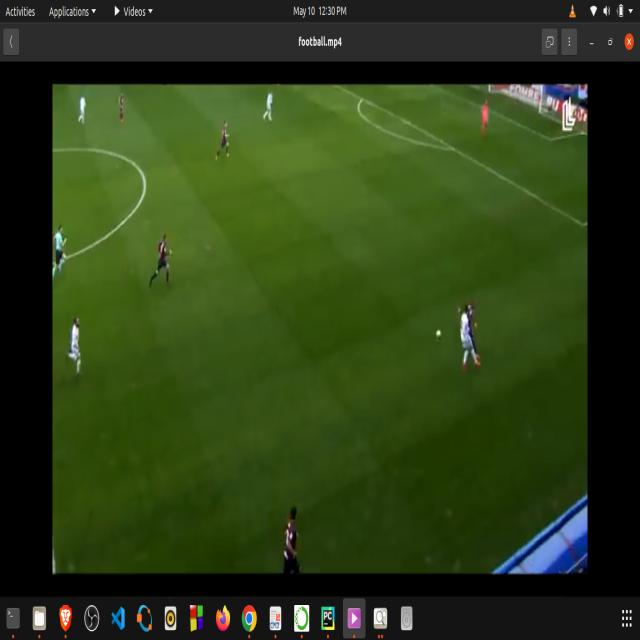Ball: (434, 327, 446, 347)
Goalkeeper: (478, 99, 496, 140)
football-players: (455, 296, 485, 374), (279, 500, 308, 572), (150, 222, 178, 292), (66, 314, 91, 380), (52, 222, 71, 283), (213, 120, 236, 162), (260, 88, 280, 123), (77, 92, 93, 130), (117, 91, 130, 122)
